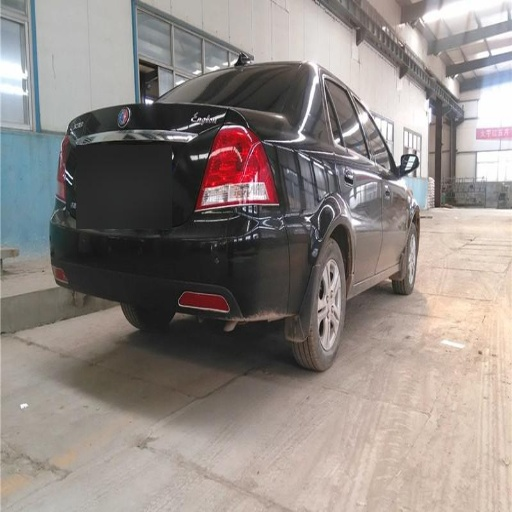back_bumper: (52, 191, 315, 328)
back_right_door: (325, 77, 380, 279)
tailgate: (168, 108, 225, 224)
trunk: (68, 123, 200, 239)
